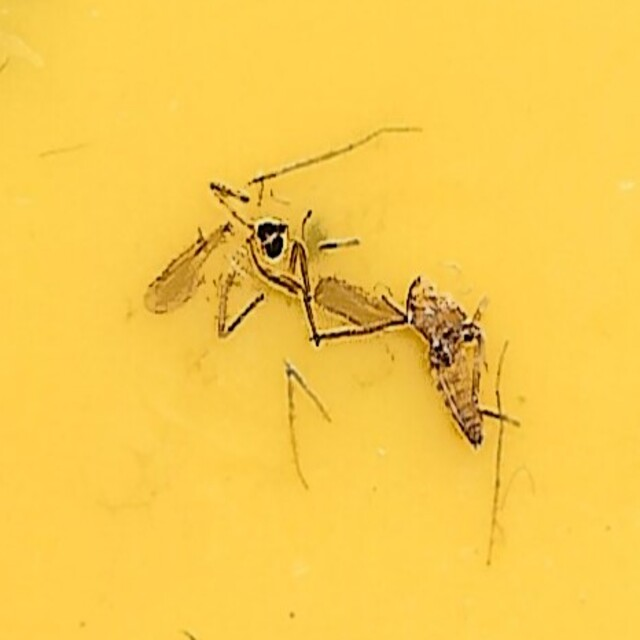Nematocera: (137, 171, 503, 469)
